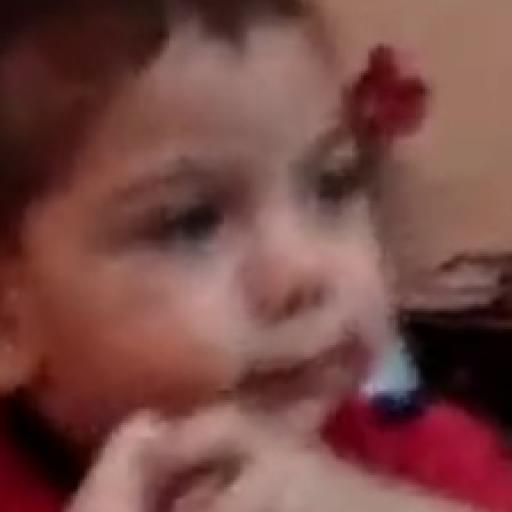Autism: (57, 25, 455, 512)
